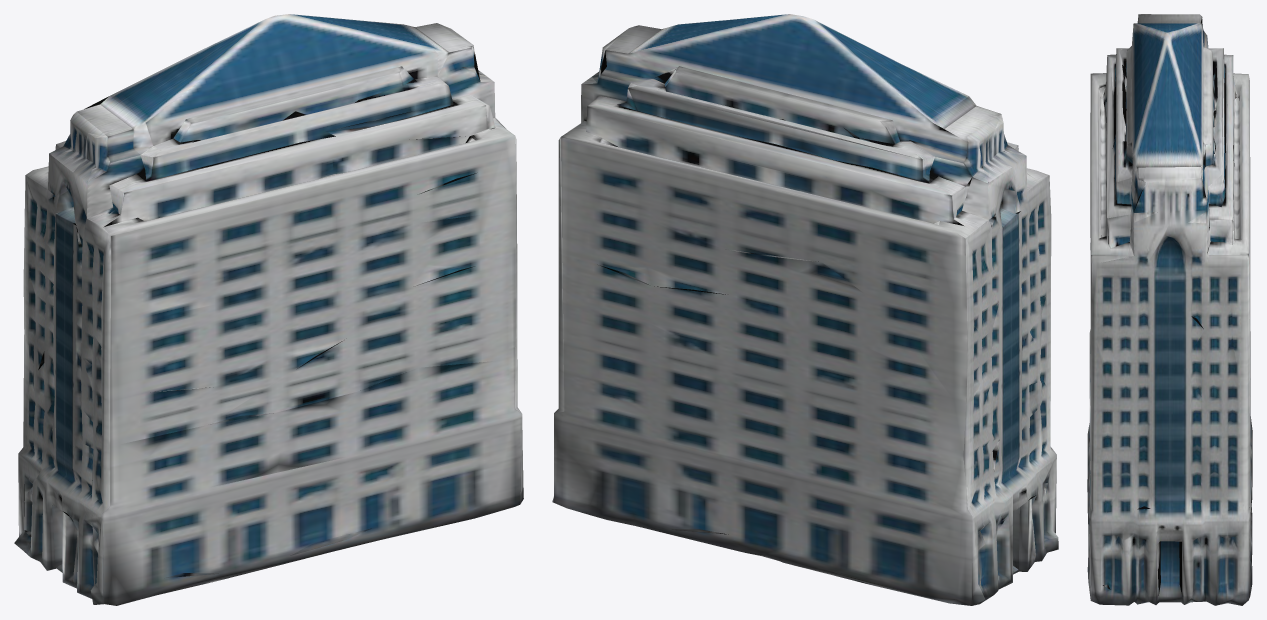
Rendered from lasalle_350_n.glb.
3 views of the same model, side by side, from view 1: azimuth 30°, elevation 25°; view 2: azimuth 150°, elevation 25°; view 3: azimuth 270°, elevation 25° (orthographic). The views are drawn at different scales.
Parts seen in each view (by area): view 1: lasalle_350_n; view 2: lasalle_350_n; view 3: lasalle_350_n.
Boxes of the visible parts, box(x1,y1,x2,y2) form: lasalle_350_n: box(14, 14, 523, 605); lasalle_350_n: box(552, 14, 1058, 605); lasalle_350_n: box(1087, 14, 1252, 605).
Bounding box in the file's own units: 51 × 57 × 18.
Materials: 1 (1 with a texture image).
